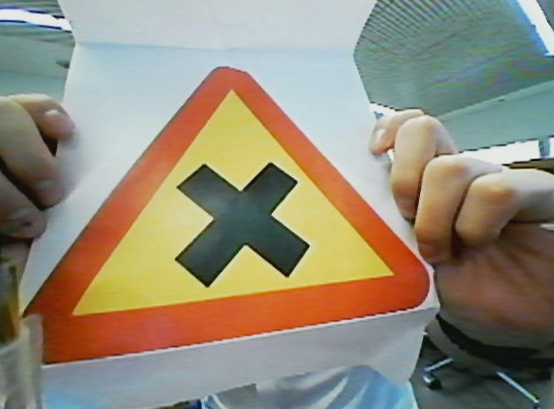junction: (28, 60, 444, 359)
